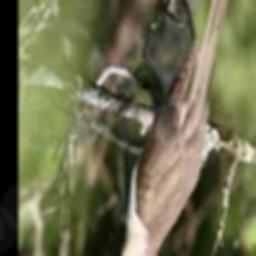Cuckoo: (109, 0, 239, 256)
